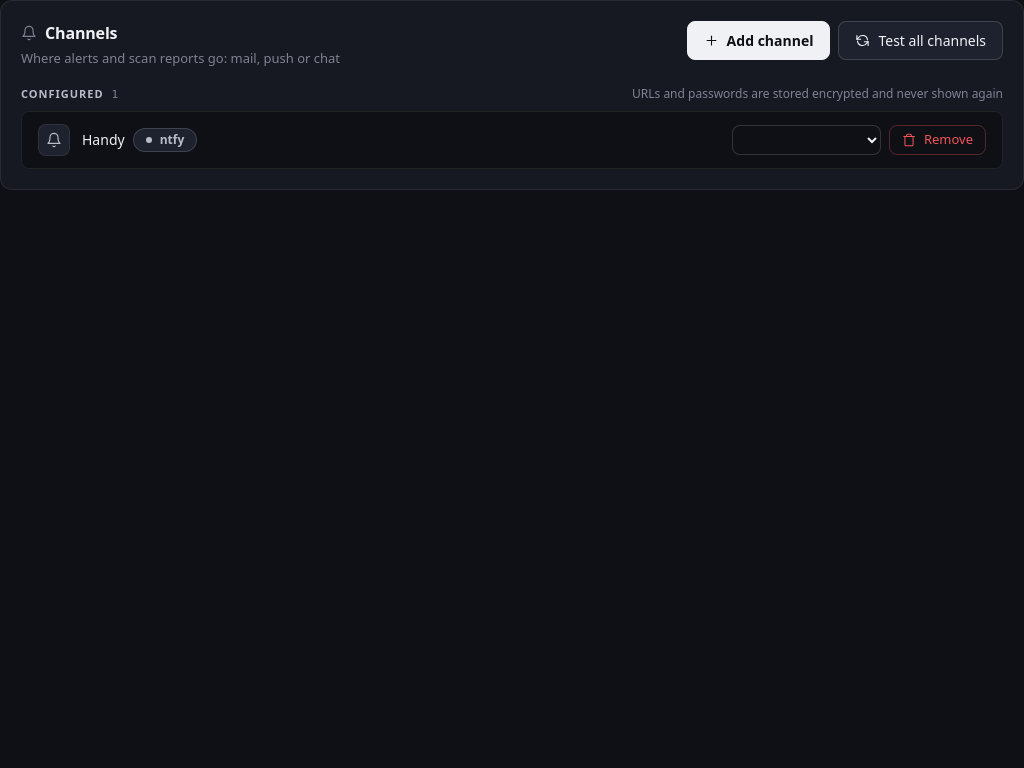
Scenario: NotificationSettings › Formular ist standardmäßig ausgeblendet und öffnet sich per Klick auf „Add channel“
Click the button with test id "add-channel": (758, 40) x1=687 y1=21 x2=830 y2=60
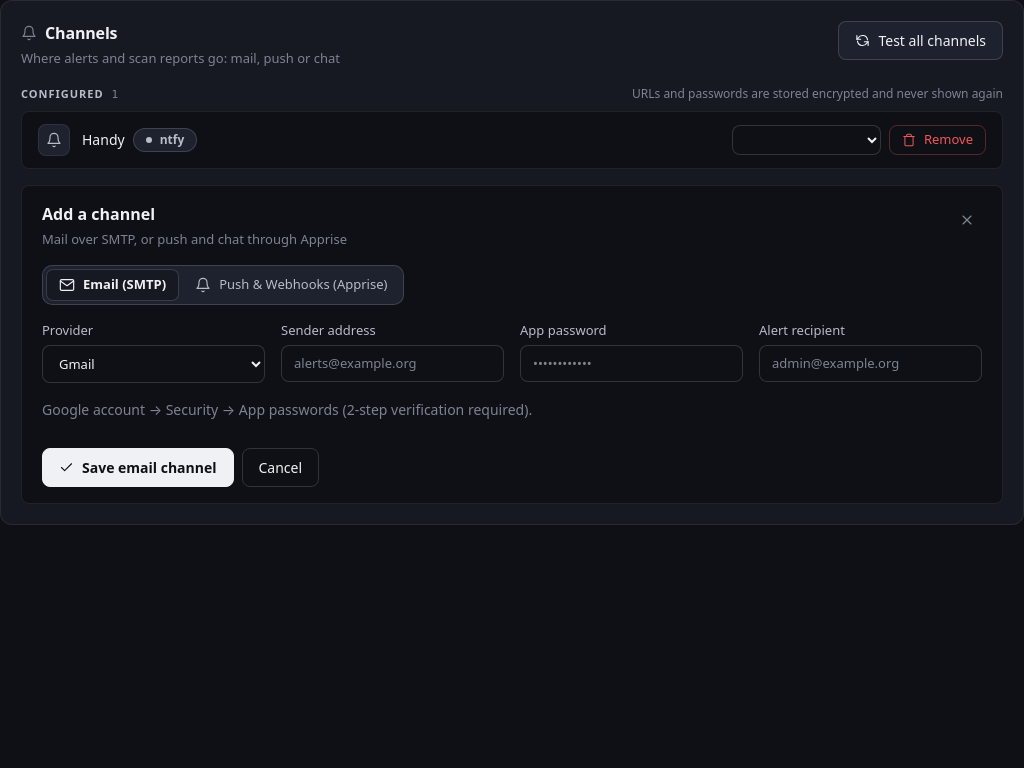
Expected: the element with class "add-channel-panel" is shown, x1=21 y1=184 x2=1003 y2=504
